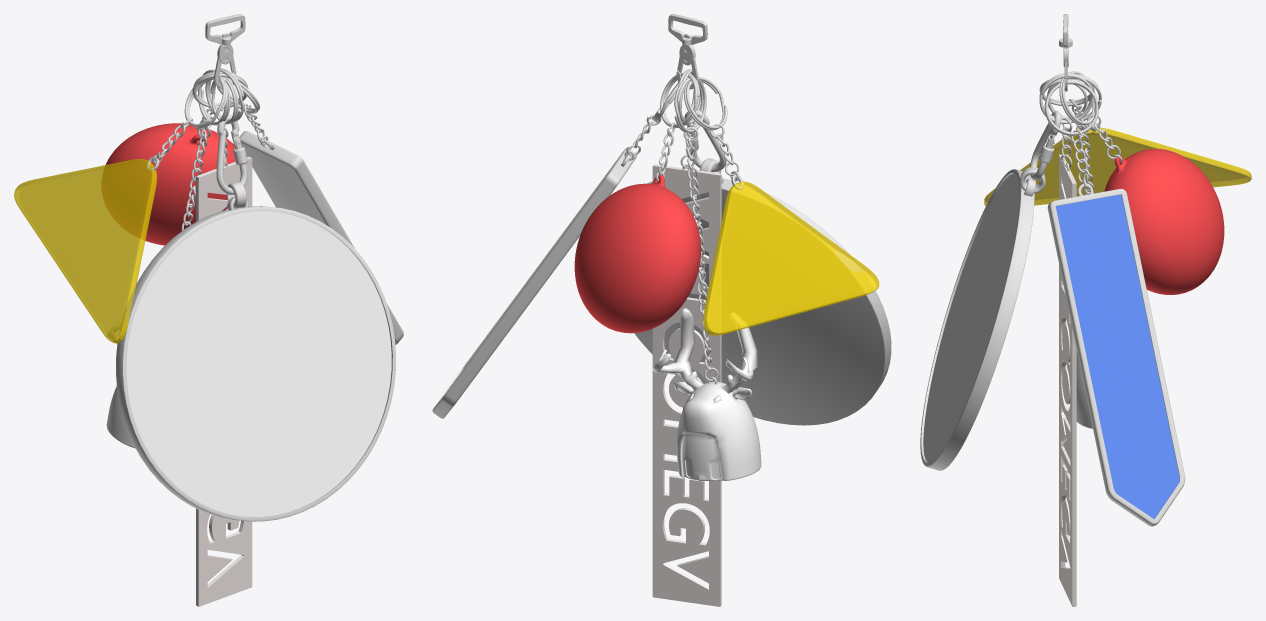
Rendered from hirotos-original-model-web.glb.
3 views of the same model, side by side, from view 1: azimuth 30°, elevation 25°; view 2: azimuth 150°, elevation 25°; view 3: azimuth 270°, elevation 25° (orthographic).
Parts seen in each view (by area): view 1: 圆形屏幕, 平面, Keychain-03, welcome, Cube.003, 屏幕, 主扣, 玩具.001, 关于我, 玩具, 项目合集, welcome.001 (+1 smaller); view 2: 圆形屏幕, welcome, 平面, Keychain-03, 玩具, Cube.003, 玩具.001, 主扣, 关于我, 屏幕, 联系, 项目合集; view 3: Cube.003, 圆形屏幕, Keychain-03, welcome, 平面, 屏幕, 项目合集, welcome.001, 联系, 玩具.001, 玩具, 主扣 (+1 smaller).
Boxes of the visible parts, x1,y1,x2,y2 form: 圆形屏幕: (116, 206, 395, 521); 平面: (14, 159, 157, 343); Keychain-03: (102, 123, 235, 245); welcome: (196, 156, 252, 606); Cube.003: (239, 131, 403, 344); 屏幕: (210, 77, 247, 208); 主扣: (205, 14, 245, 88); 玩具.001: (181, 69, 230, 230); 关于我: (146, 77, 227, 171); 玩具: (106, 318, 135, 448); 项目合集: (213, 77, 274, 150); welcome.001: (205, 68, 244, 166); 圆形屏幕: (634, 178, 891, 425); welcome: (652, 164, 721, 606); 平面: (703, 181, 879, 335); Keychain-03: (574, 175, 700, 333); 玩具: (652, 307, 761, 481); Cube.003: (432, 148, 636, 418); 玩具.001: (674, 77, 718, 384); 主扣: (668, 14, 707, 89); 关于我: (684, 77, 743, 189); 屏幕: (681, 75, 726, 173); 联系: (656, 73, 699, 181); 项目合集: (621, 82, 679, 166); Cube.003: (1047, 188, 1185, 526); 圆形屏幕: (920, 169, 1034, 470); Keychain-03: (1104, 149, 1224, 294); welcome: (1059, 154, 1076, 606); 平面: (984, 127, 1251, 206); 屏幕: (1019, 79, 1087, 193); 项目合集: (1044, 80, 1098, 195); welcome.001: (1039, 73, 1093, 170); 联系: (1059, 71, 1122, 162); 玩具.001: (1047, 74, 1101, 194); 玩具: (1076, 350, 1092, 428); 主扣: (1059, 14, 1072, 91).
Bounding box in the file's own units: 0.4011 × 0.6151 × 0.3233.
